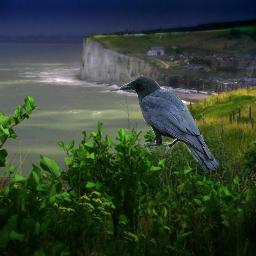Crow: (118, 75, 220, 174)
